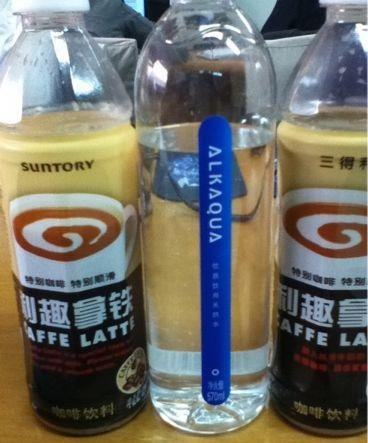Suntory_Caffe_Latte: (9, 143, 158, 399)
